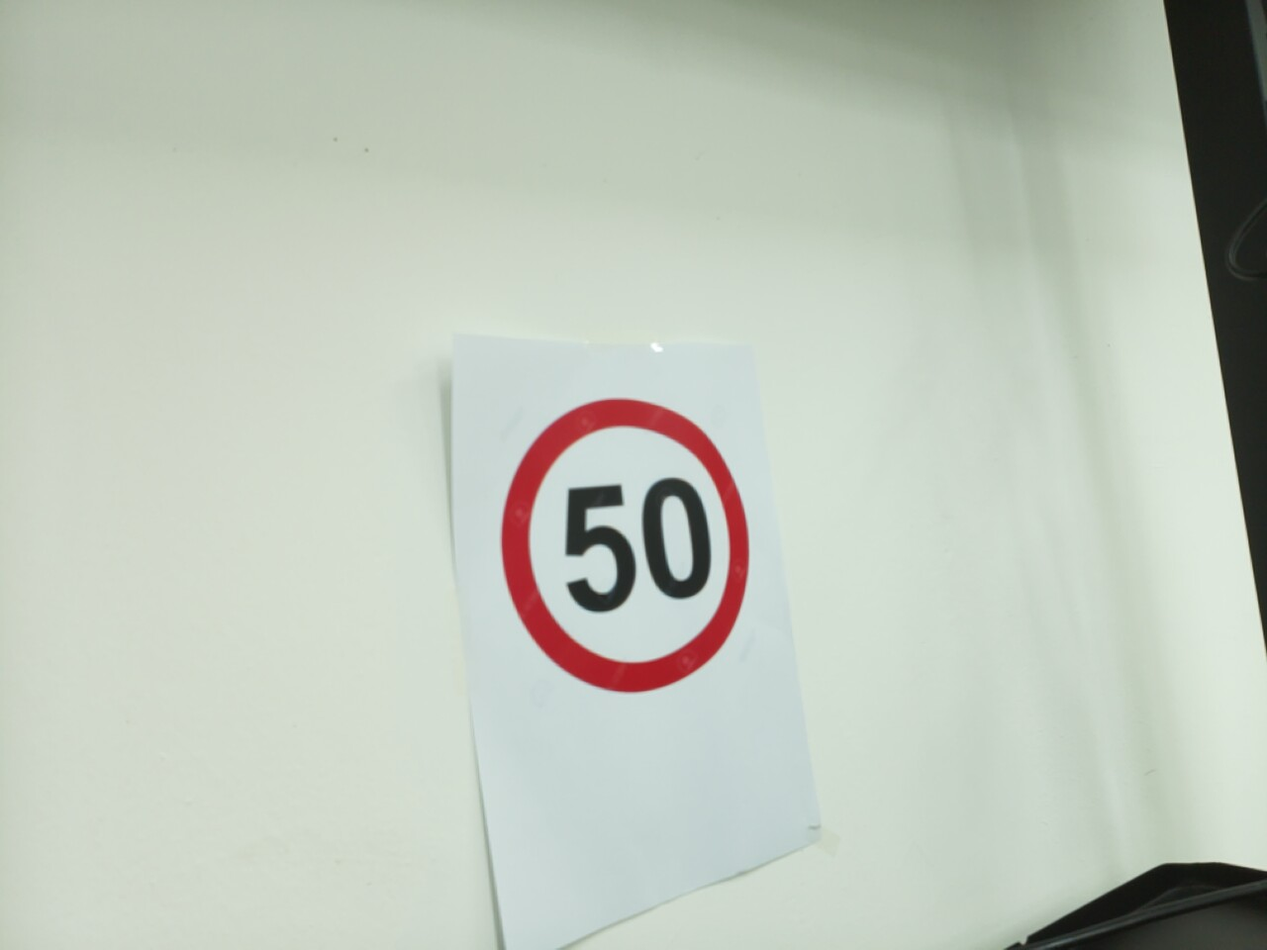speed_50: (492, 389, 758, 703)
